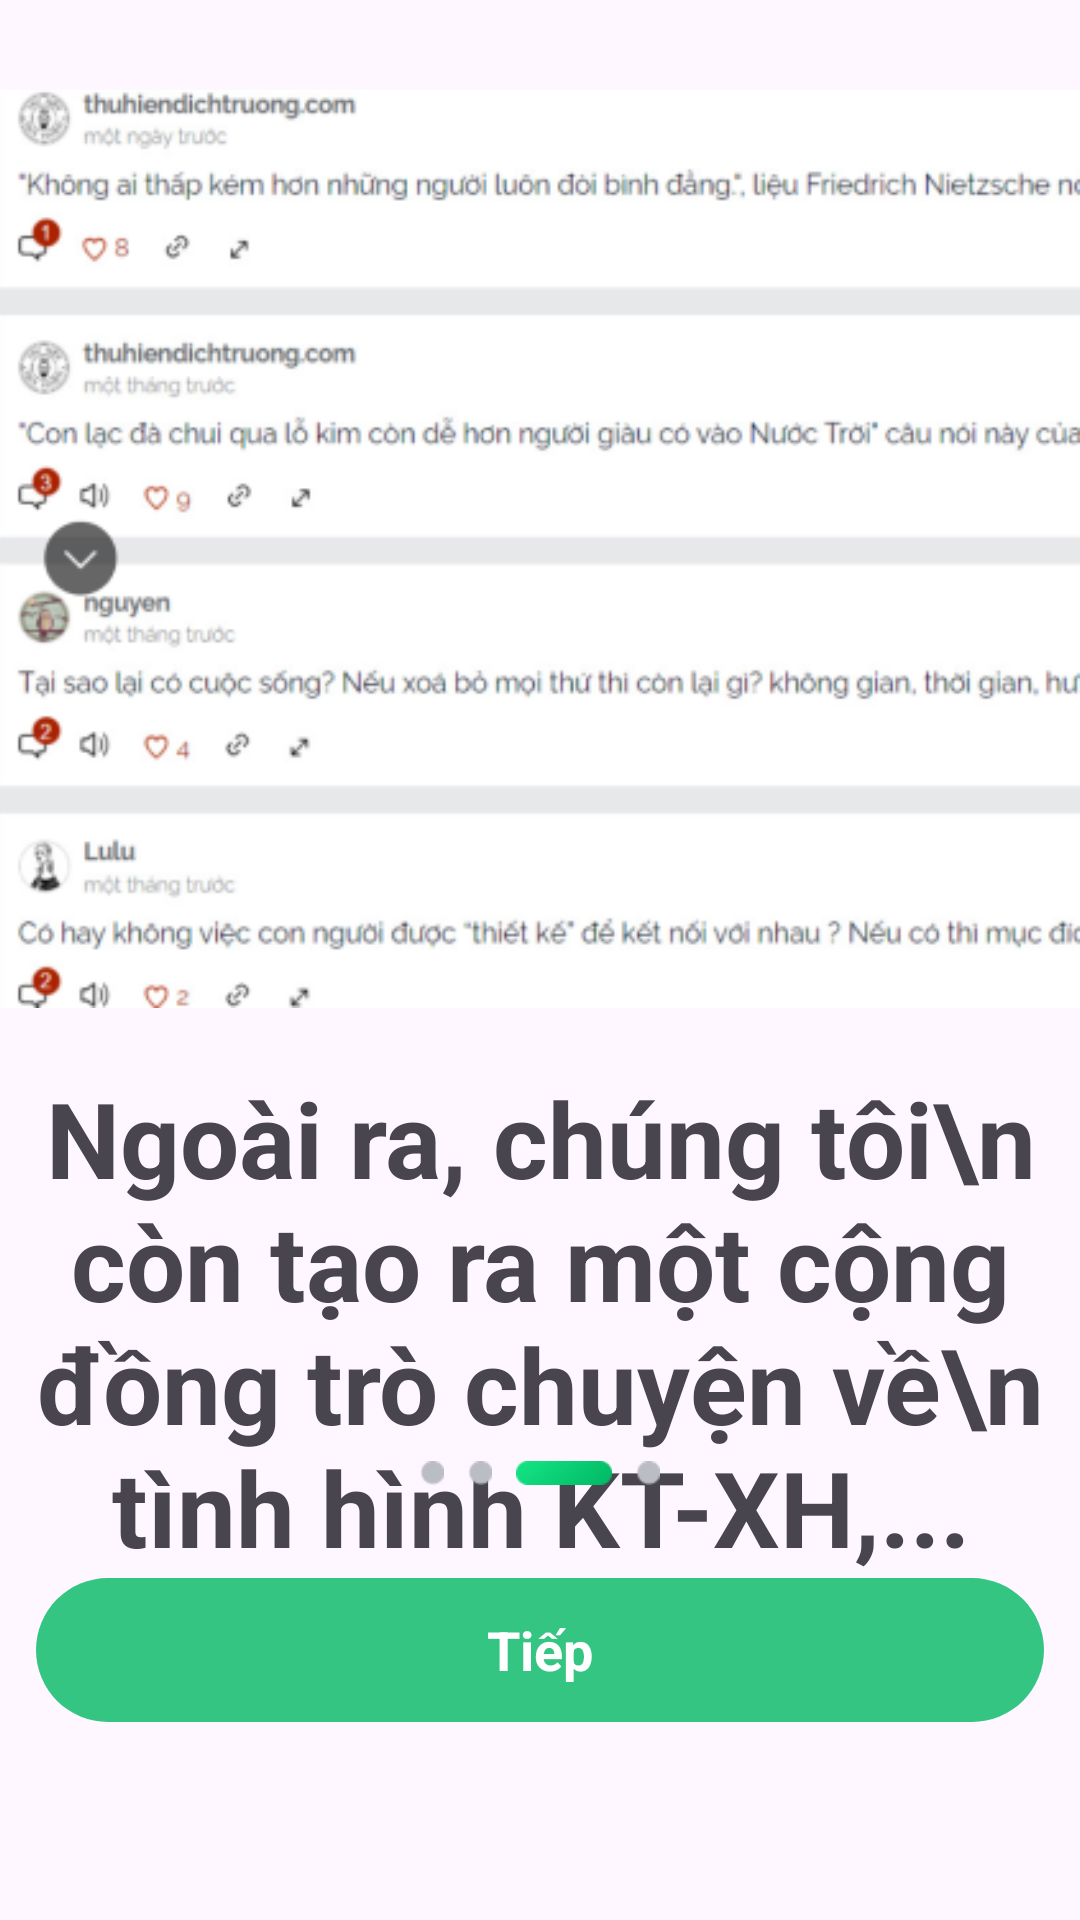

Where to tap for icons on this 1080x1920 app screen, as [x,y]:
point: [564,1473]
point notactive: [432,1473], [480,1473], [648,1473]
